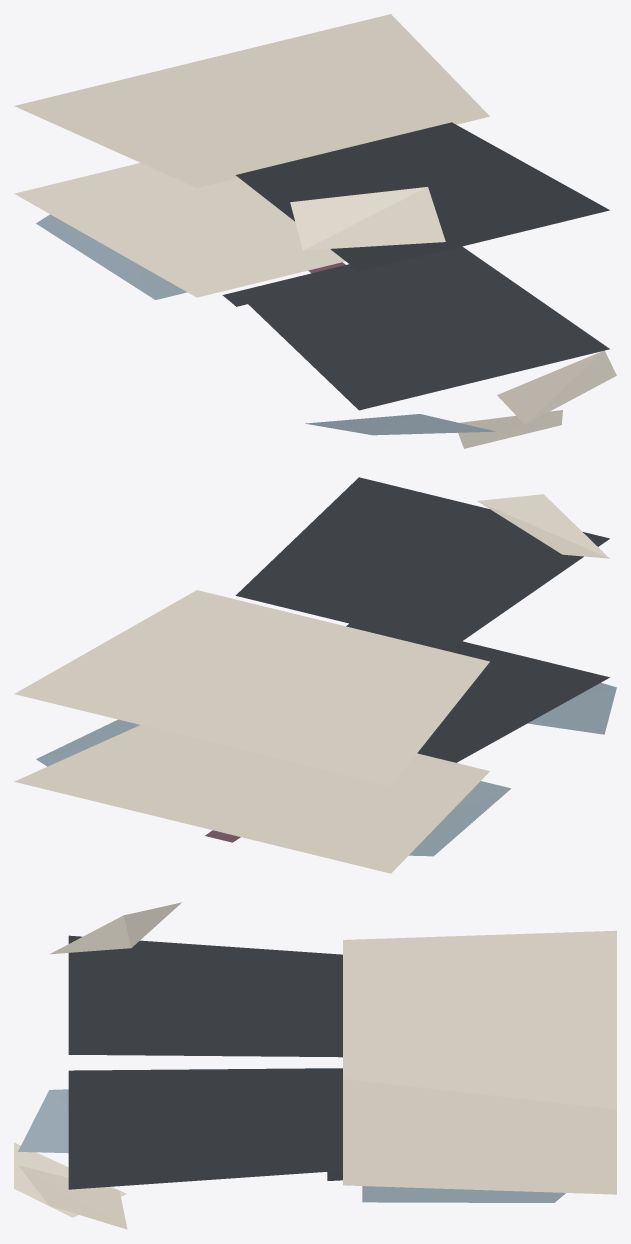
File: prism-collar-cocoon.obj
3 views of the same model, one above another, from view 1: azimuth 30°, elevation 25°; view 2: azimuth 150°, elevation 25°; view 3: azimuth 270°, elevation 25° (orthographic). The views are drawn at different scales.
Visible parts, largest first — view 1: skirt_back, bodice_front, bodice_back, skirt_front, collar_side_L, collar_front_R, box_pleat_L, collar_front_L, collar_center; view 2: skirt_back, skirt_front, bodice_back, bodice_front, collar_side_L, collar_front_L, box_pleat_L, box_pleat_R; view 3: skirt_back, bodice_front, bodice_back, skirt_front, collar_front_R, box_pleat_R, collar_side_L, collar_front_L, collar_center.
Boxes of the visible parts, x1,y1,x2,y2 form: skirt_back: [14, 14, 489, 187]; bodice_front: [236, 246, 609, 410]; bodice_back: [235, 122, 609, 271]; skirt_front: [14, 163, 345, 297]; collar_side_L: [290, 187, 445, 250]; collar_front_R: [497, 350, 616, 424]; box_pleat_L: [36, 214, 186, 299]; collar_front_L: [305, 414, 495, 435]; collar_center: [458, 410, 562, 448]; skirt_back: [14, 590, 489, 785]; skirt_front: [14, 725, 489, 873]; bodice_back: [235, 477, 609, 648]; bodice_front: [346, 623, 609, 762]; collar_side_L: [477, 494, 609, 558]; collar_front_L: [527, 683, 616, 734]; box_pleat_L: [409, 781, 511, 856]; box_pleat_R: [36, 719, 139, 766]; skirt_back: [343, 930, 616, 1109]; bodice_front: [68, 1068, 342, 1189]; bodice_back: [68, 935, 342, 1057]; skirt_front: [343, 1079, 616, 1194]; collar_front_R: [18, 1165, 127, 1229]; box_pleat_R: [362, 1186, 565, 1202]; collar_side_L: [50, 902, 181, 954]; collar_front_L: [18, 1089, 68, 1153]; collar_center: [14, 1142, 126, 1217].
Bounding box in the file's own units: 0.57 × 0.33 × 0.77.
